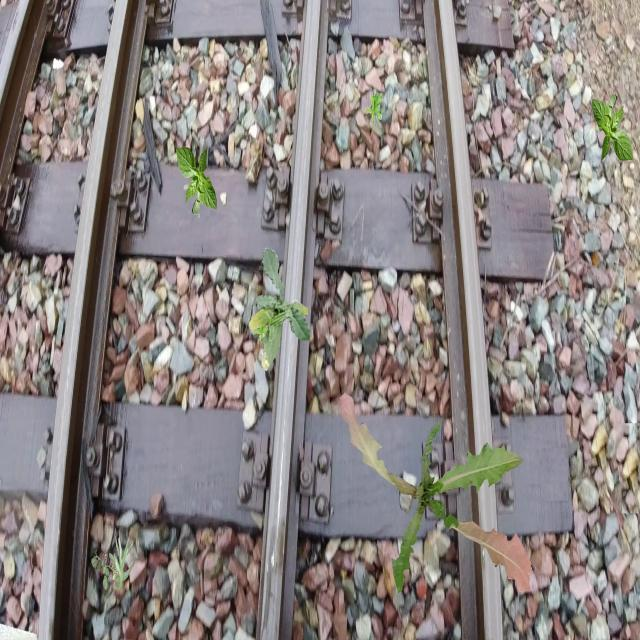Plant: (339, 392, 532, 594), (248, 247, 310, 372), (592, 93, 634, 164), (176, 145, 218, 216), (109, 535, 136, 592), (91, 550, 118, 591), (253, 311, 270, 343), (365, 91, 382, 123)
